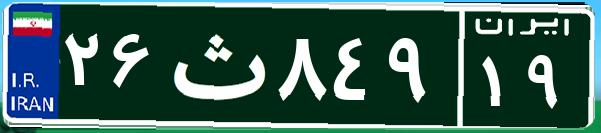1: (475, 38, 525, 113)
2: (57, 26, 110, 107)
4: (330, 28, 385, 110)
6: (110, 28, 158, 105)
8: (273, 28, 330, 110)
9: (385, 28, 445, 110), (525, 38, 570, 115)
ث: (158, 15, 273, 115)
